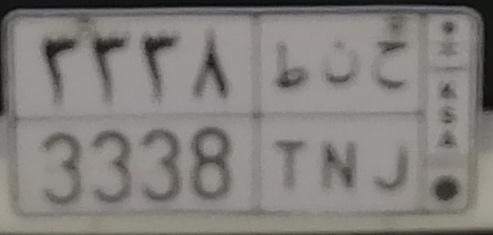3: (89, 35, 134, 204), (140, 31, 184, 203), (42, 35, 82, 208)
8: (191, 28, 236, 201)
J: (372, 39, 412, 197)
N: (319, 38, 361, 195)
T: (272, 41, 310, 190)
